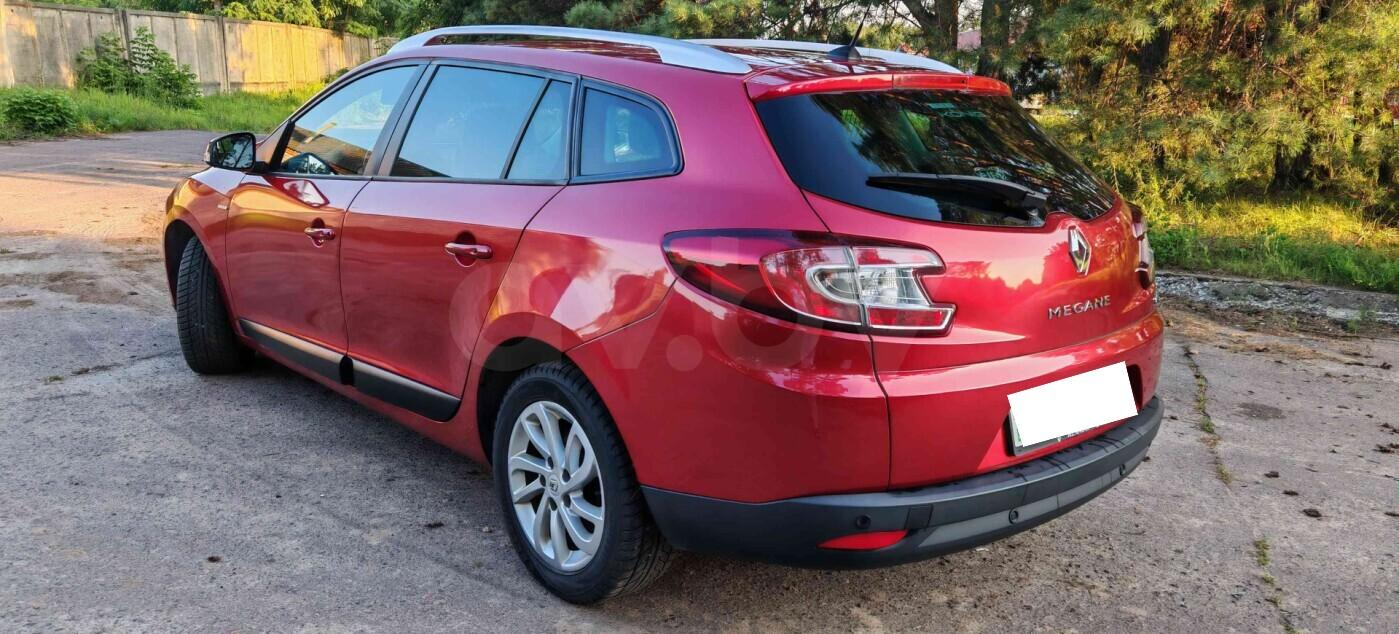Megane_2012-2014: (156, 31, 1160, 596)
